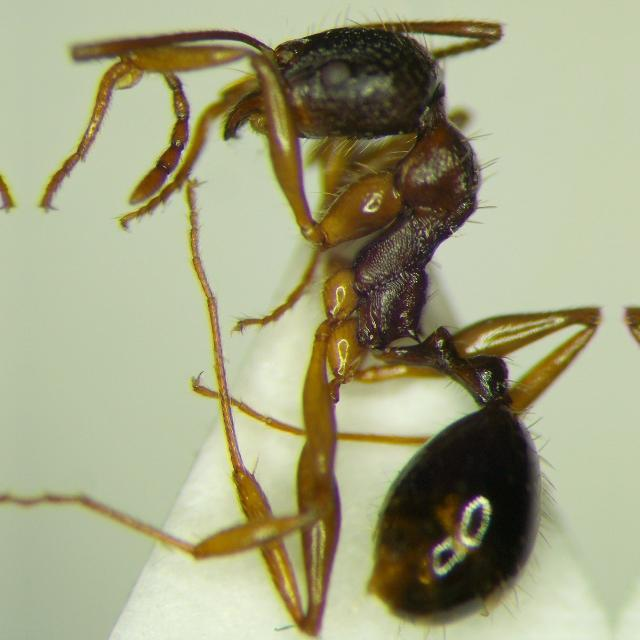Apheanogaster: (163, 0, 587, 630)
